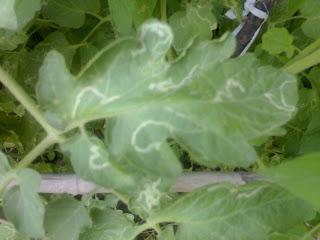Leaf_Miner: (35, 17, 300, 197)
